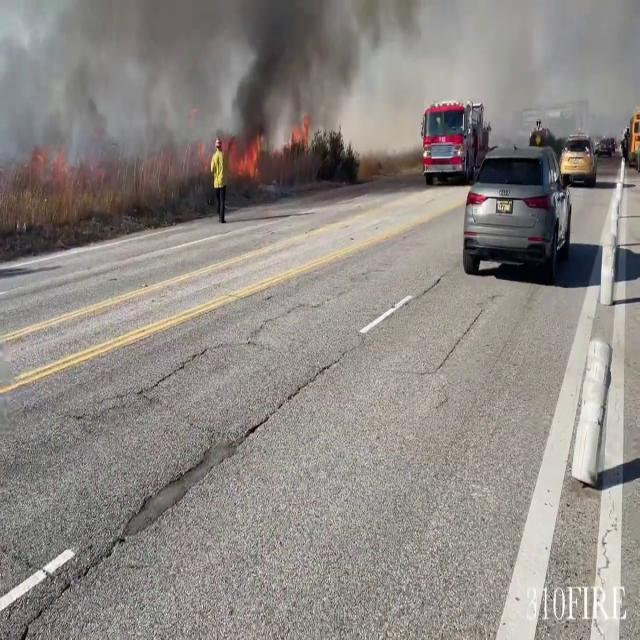Fire: (232, 130, 270, 181)
Smoke: (0, 0, 206, 211), (176, 0, 404, 170)
